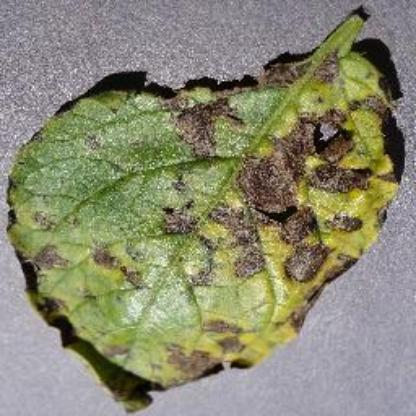Early-Blight: (10, 9, 400, 410)
